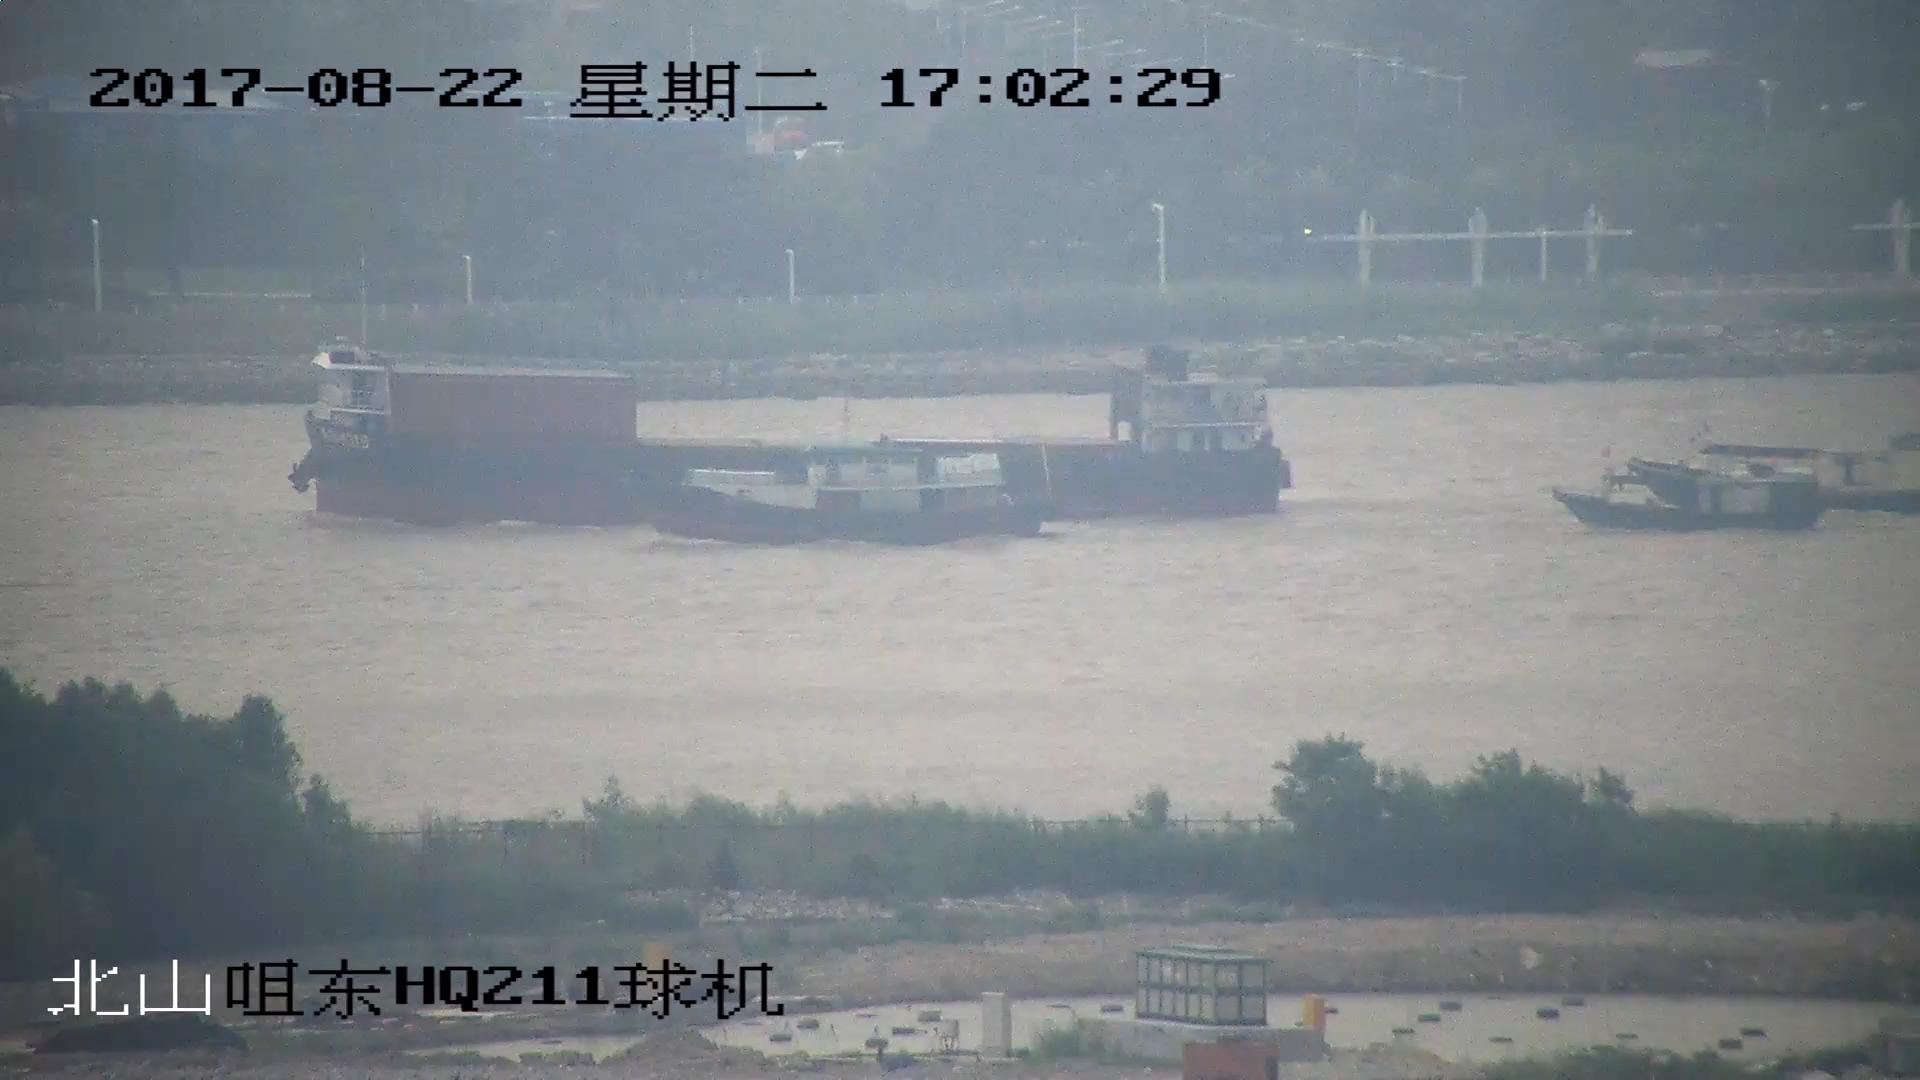fishing boat: (629, 439, 1044, 546), (1610, 429, 1920, 521), (1551, 454, 1825, 533)
general cargo ship: (278, 325, 1293, 527)
